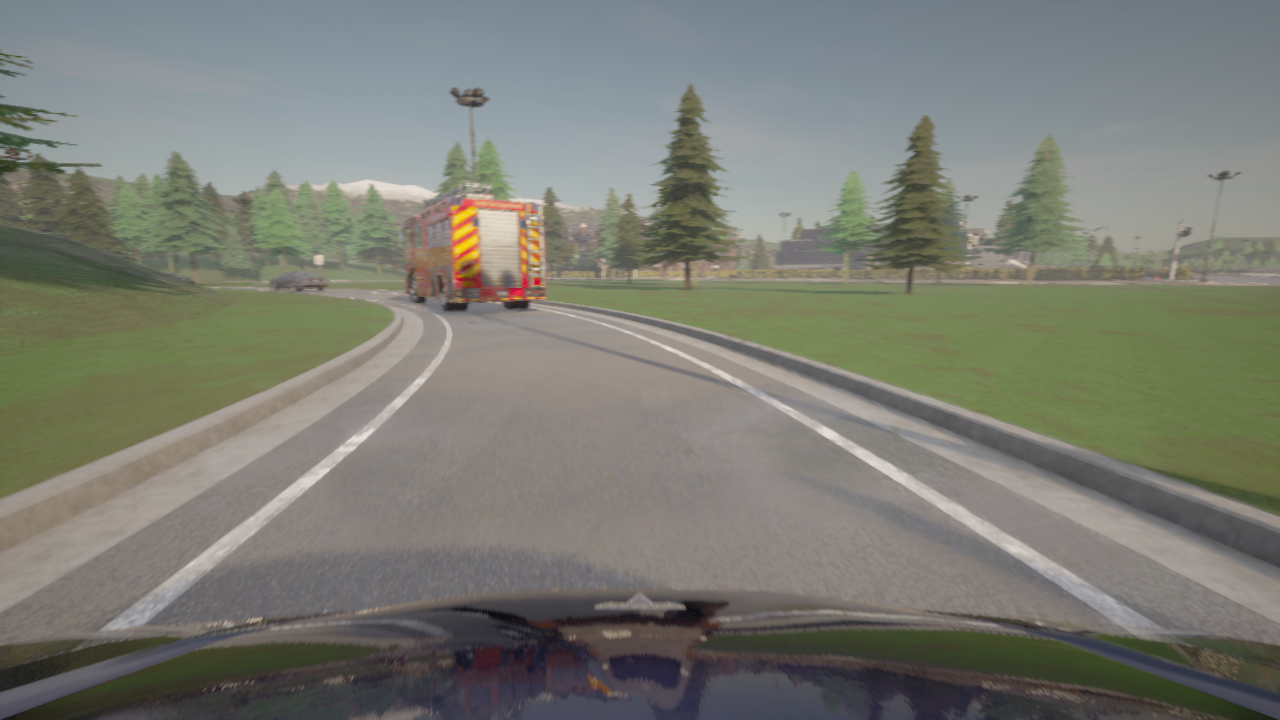cyclist: (0, 588, 1279, 719), (397, 181, 546, 312), (269, 271, 329, 291), (162, 272, 194, 283)
